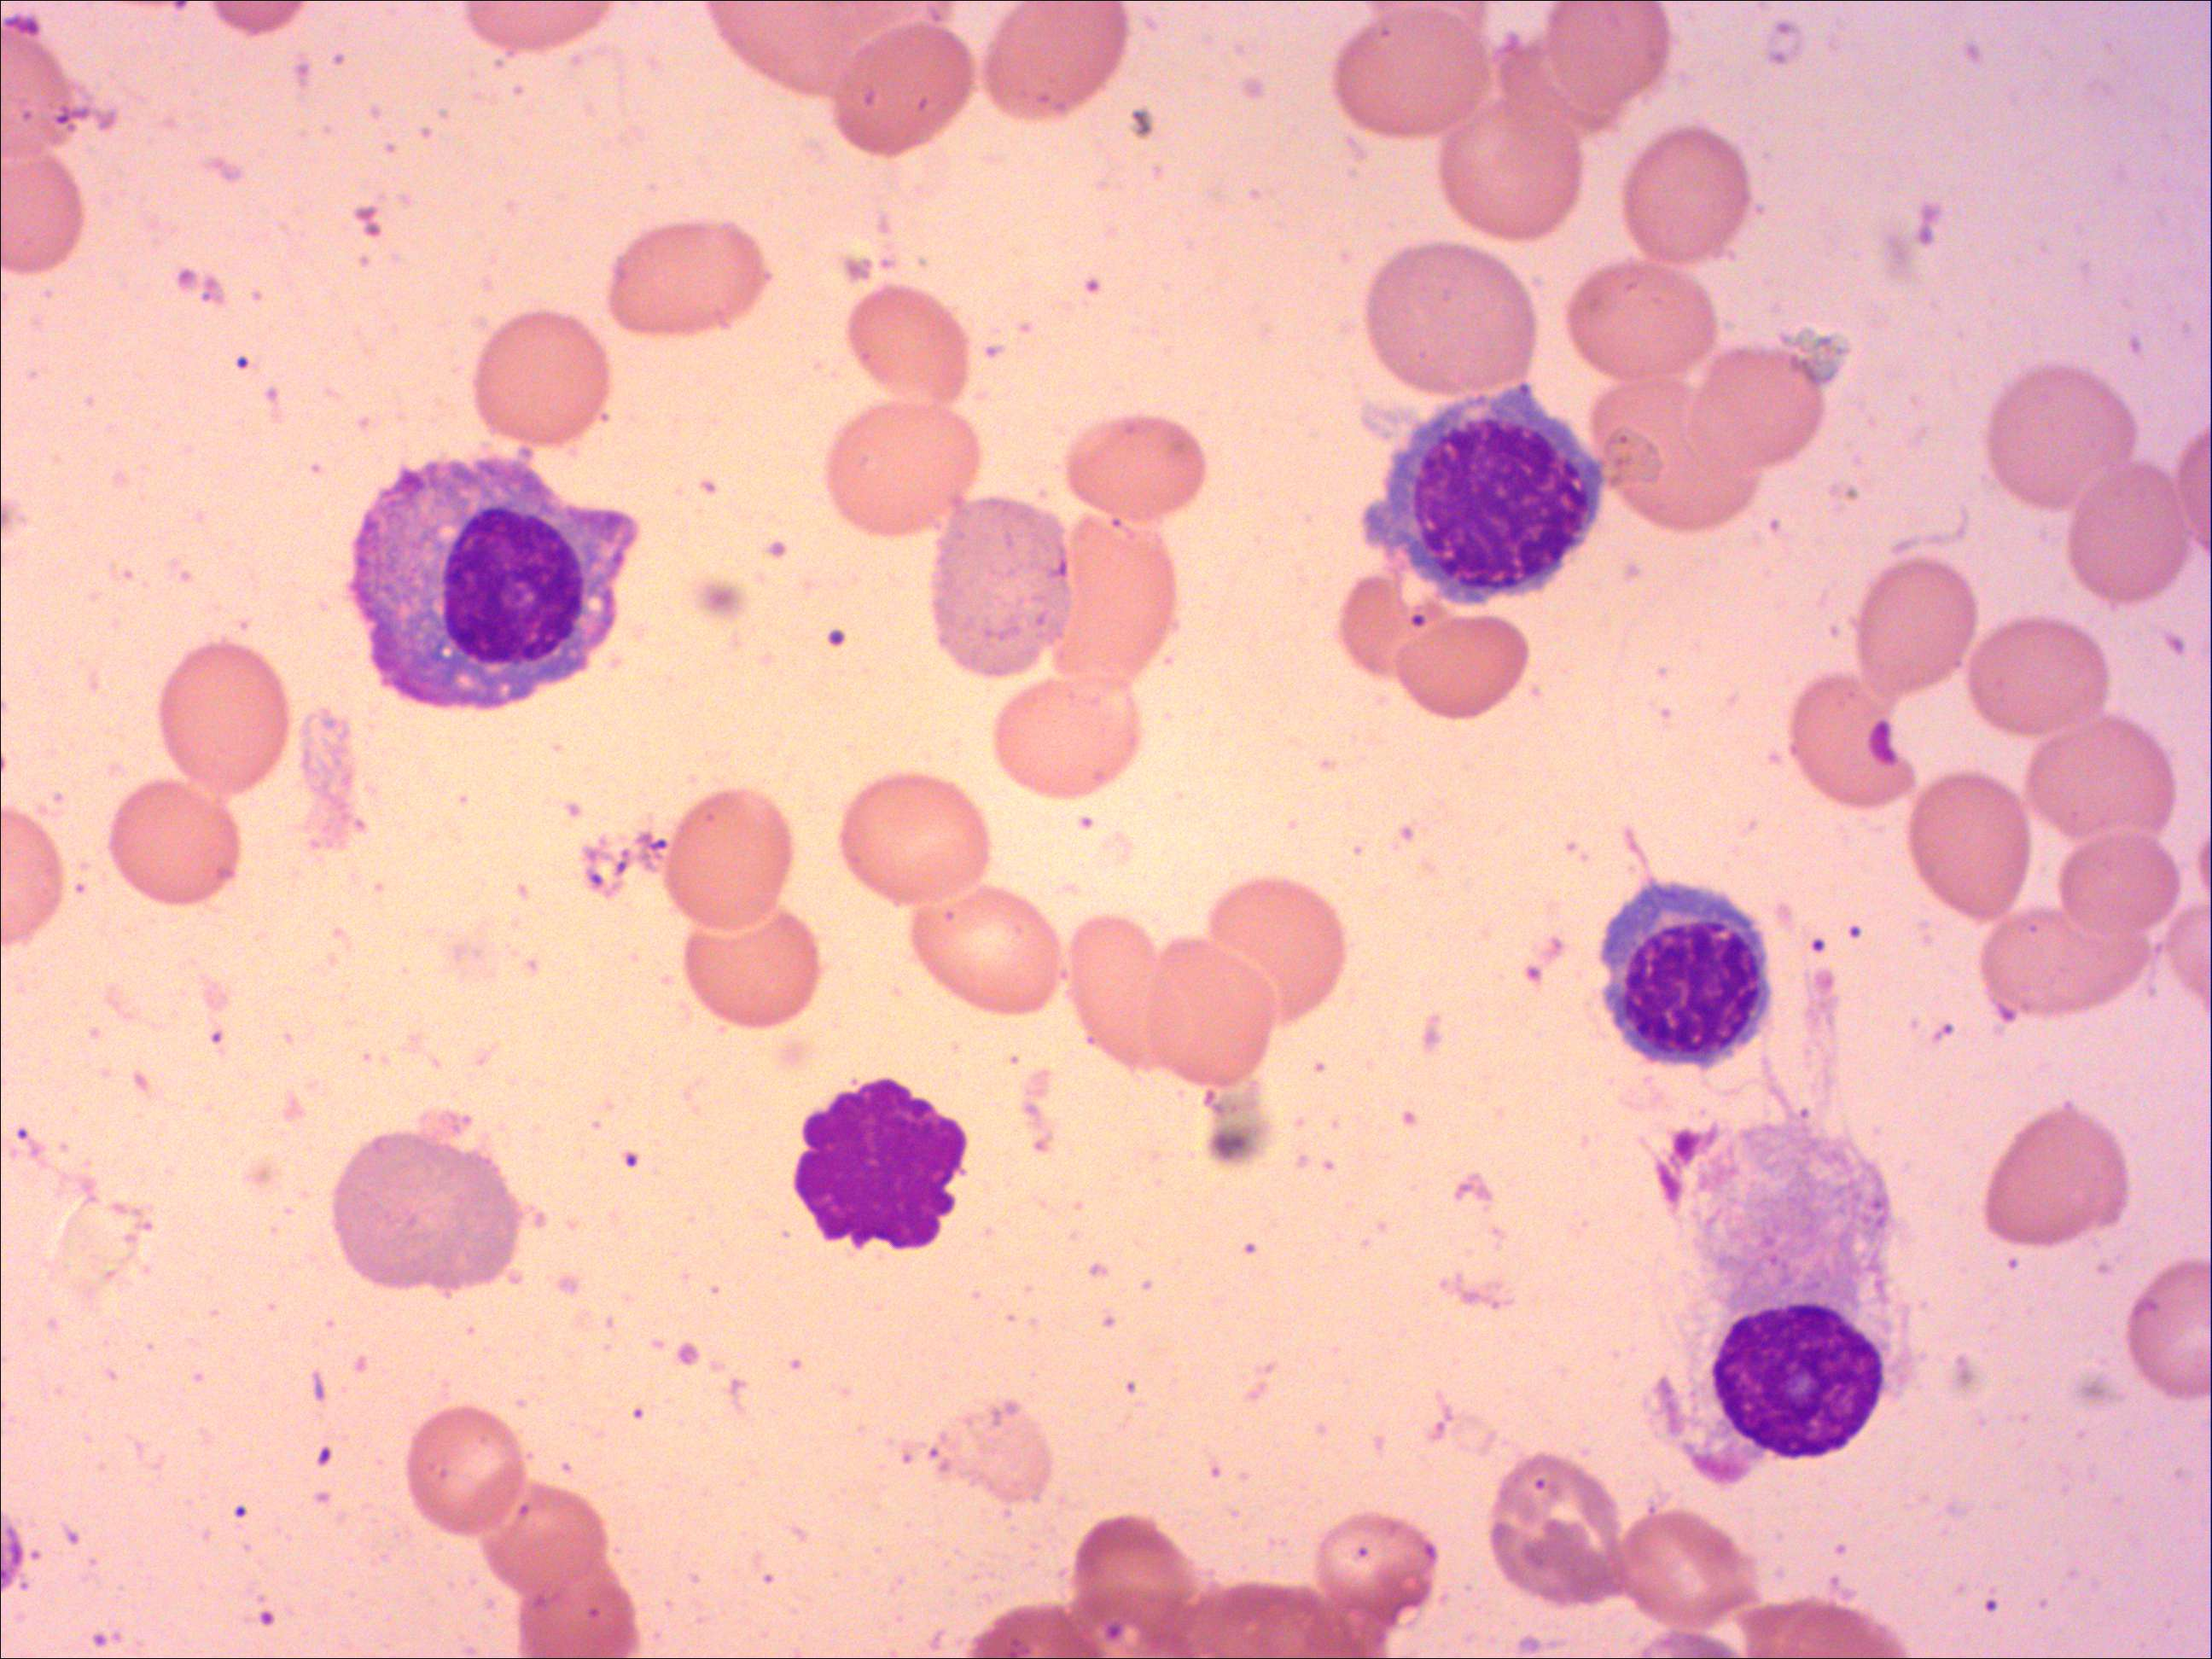23: (1359, 376, 1611, 617), (1595, 878, 1777, 1072)
51: (341, 446, 644, 718)
x: (1695, 1288, 1897, 1476), (786, 1075, 974, 1256)
